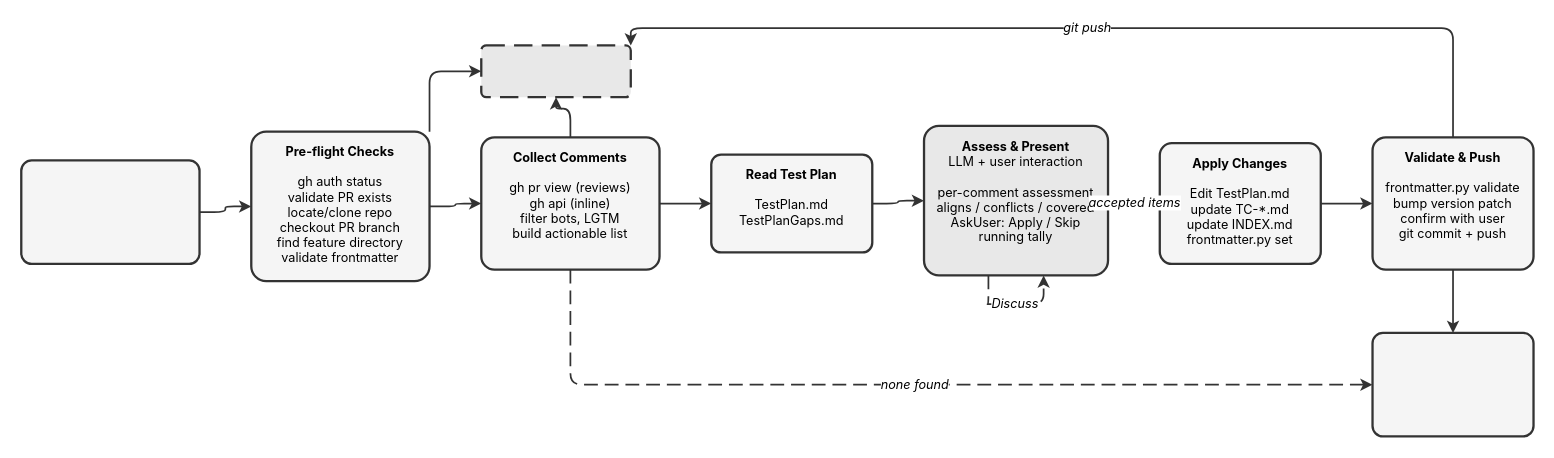
Some shapes in this 1554 by 458 pixel diagram are drawn without their labels. The centre of each missing label's shape, as x and y in pixels:
"/test-plan.resolve-feedback PR_URL (required) interactive fallback" goes at point (110, 211).
"GitHub PR comments + branch" goes at point (555, 71).
"Summary applied N / skipped M version delta PR updated" goes at point (1452, 384).
